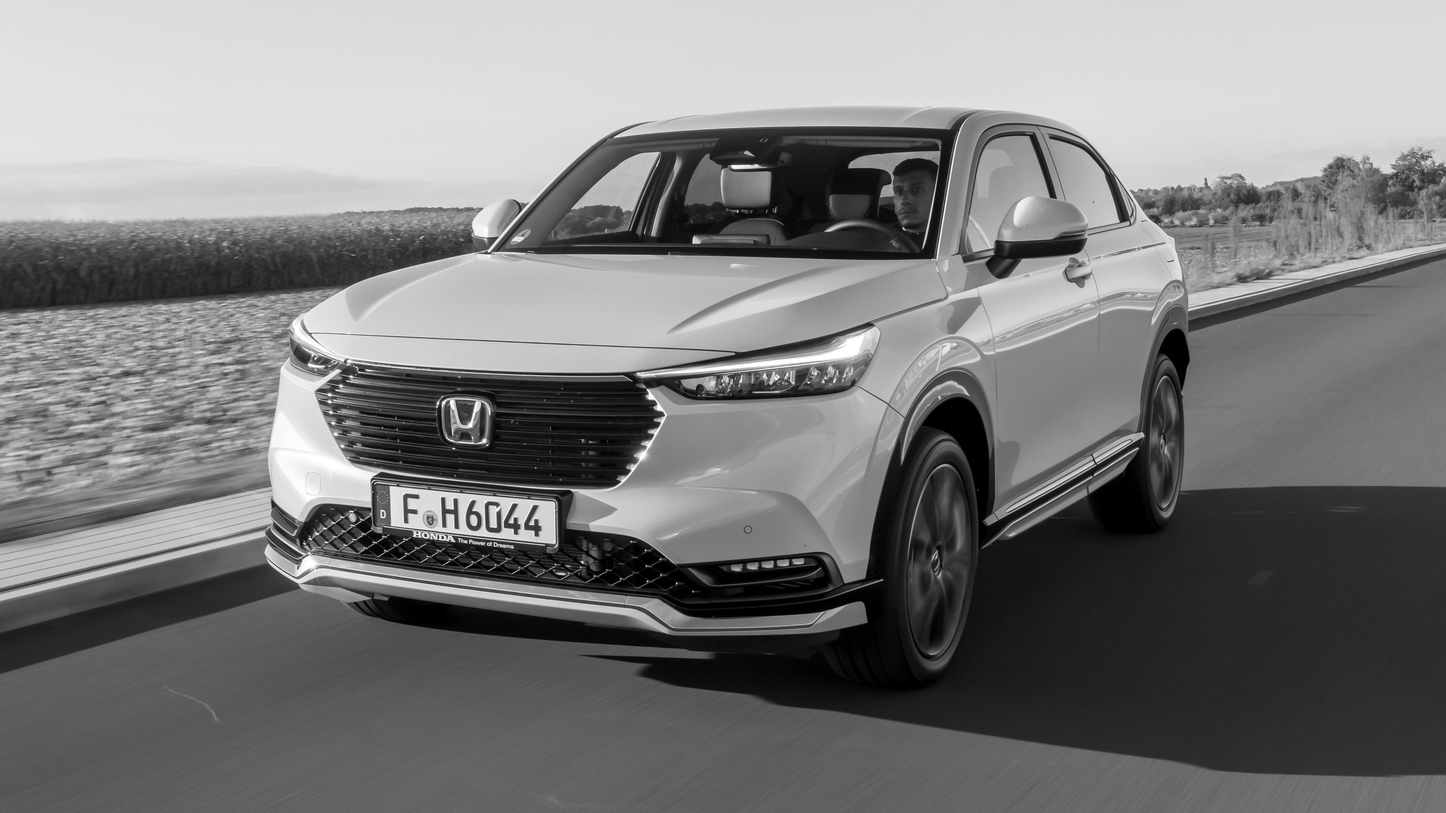Car hood: (297, 247, 953, 385)
Fender - -F-L-: (846, 226, 1017, 509)
Fender - -R-L-: (1116, 179, 1195, 398)
Front bumper: (254, 363, 912, 632)
Headlight - -L-: (630, 321, 892, 403)
Headlight - -R-: (274, 315, 348, 382)
Passenger-s door - -F-L-: (945, 91, 1117, 560)
Passenger-s door - -R-L-: (1028, 101, 1163, 509)
Side bumper - -L-: (974, 404, 1161, 595)
Side mirror - -L-: (980, 194, 1097, 299)
Side mirror - -R-: (468, 199, 524, 247)
